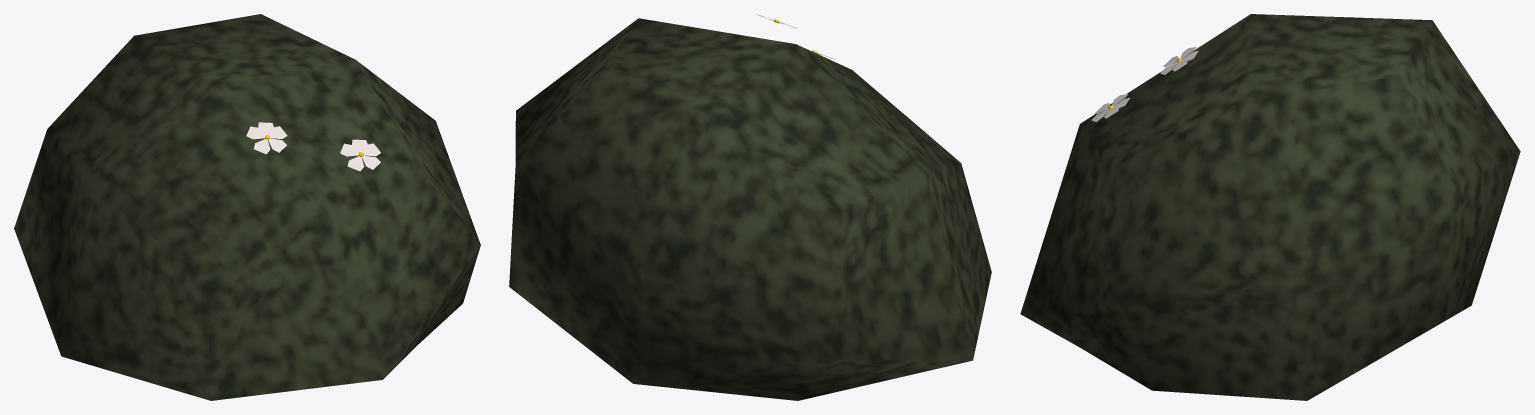
File: bush3.fbx
3 renders of one model, left to right at view 1: azimuth 30°, elevation 25°; view 2: azimuth 150°, elevation 25°; view 3: azimuth 270°, elevation 25°, orthographic. The views are drawn at different scales.
Parts seen in each view (by area): view 1: bush2; view 2: bush2; view 3: bush2.
Part boxes in pixels (x1,y1,x2,y2): bush2: (14,14,480,400); bush2: (509,14,991,400); bush2: (1020,14,1520,400).
Size of the model in its own units: 2185 by 1275 by 2163.
